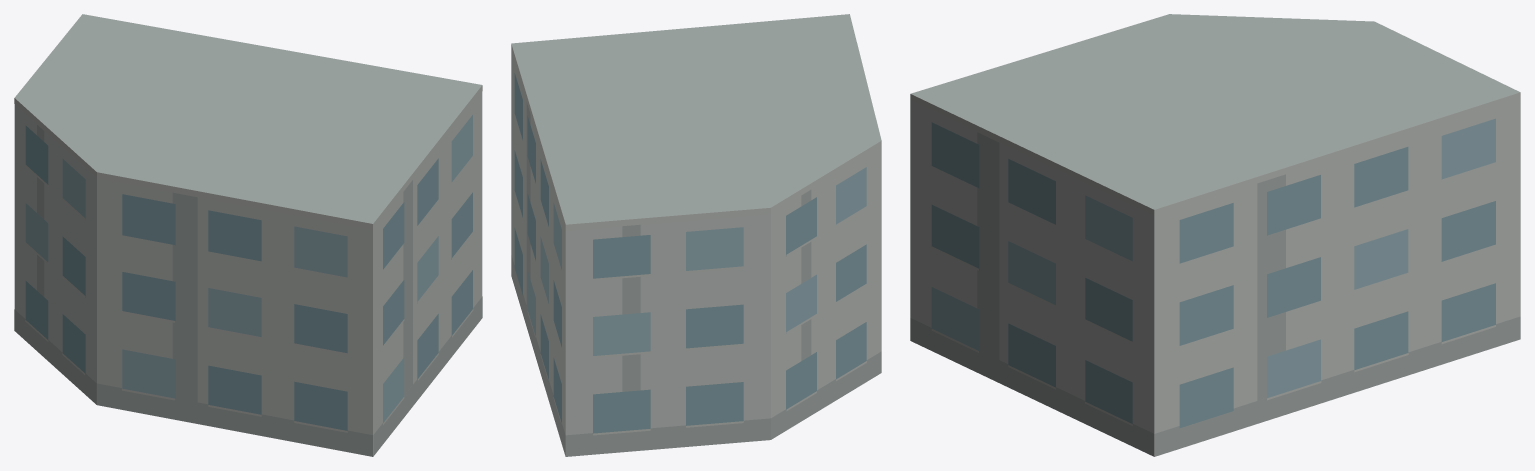
File: survey-upis-32999925.glb
The picture shows the model from 3 angles, left to right: view 1: azimuth 30°, elevation 25°; view 2: azimuth 150°, elevation 25°; view 3: azimuth 270°, elevation 25°; orthographic projection. The views are drawn at different scales.
Visible parts, largest first — view 1: survey-upis-32999925.tmp; view 2: survey-upis-32999925.tmp; view 3: survey-upis-32999925.tmp.
Part boxes in pixels (x1,y1,x2,y2): survey-upis-32999925.tmp: (14,14,482,456); survey-upis-32999925.tmp: (511,14,881,456); survey-upis-32999925.tmp: (910,14,1520,456).
Bounding box in the file's own units: 15.57 × 9.15 × 20.5.
